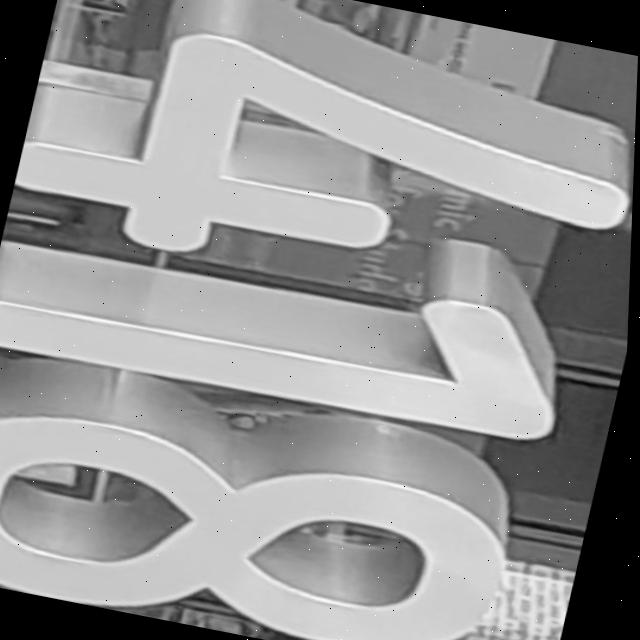character: (0, 0, 640, 340), (0, 207, 589, 462), (0, 388, 533, 640)
